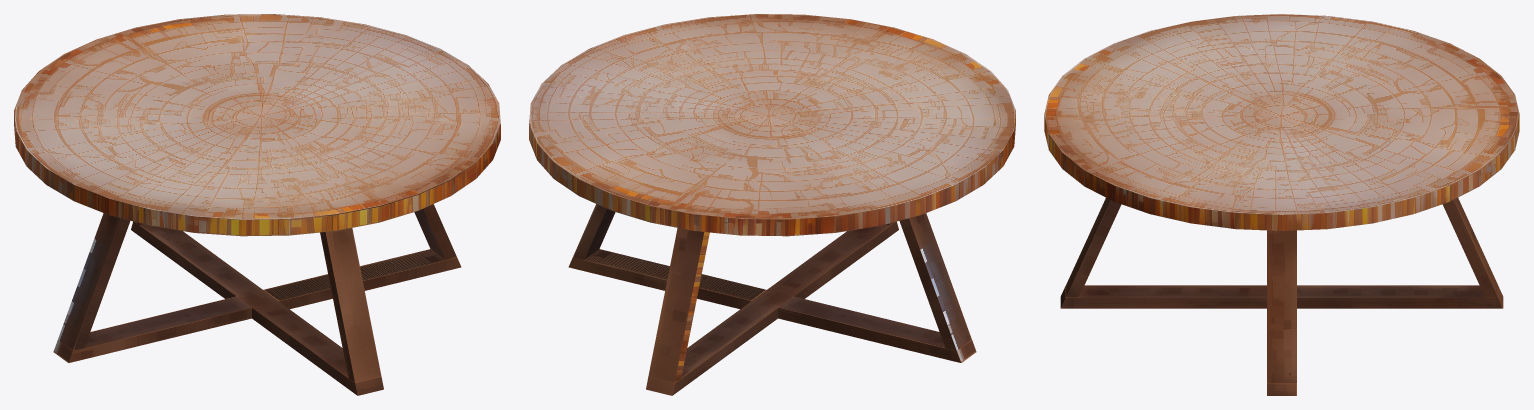
3 views of the same model, side by side, from view 1: azimuth 30°, elevation 25°; view 2: azimuth 150°, elevation 25°; view 3: azimuth 270°, elevation 25° (orthographic). The views are drawn at different scales.
Parts seen in each view (by area): view 1: mesh.016; view 2: mesh.016; view 3: mesh.016.
Boxes of the visible parts, x1,y1,x2,y2 form: mesh.016: (14, 14, 500, 395); mesh.016: (529, 14, 1015, 395); mesh.016: (1044, 14, 1519, 395).
Size of the model in its own units: 1.11 by 0.4848 by 1.11.
Materials: 1 (1 with a texture image).
